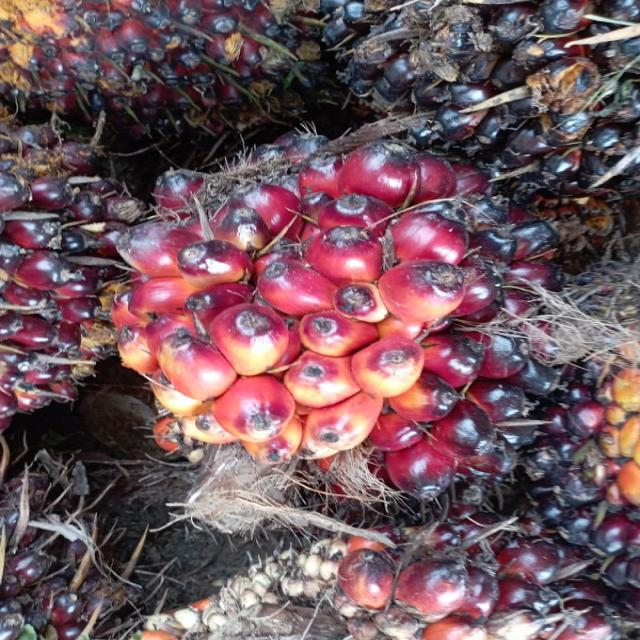fraksi 1: (32, 87, 561, 540)
